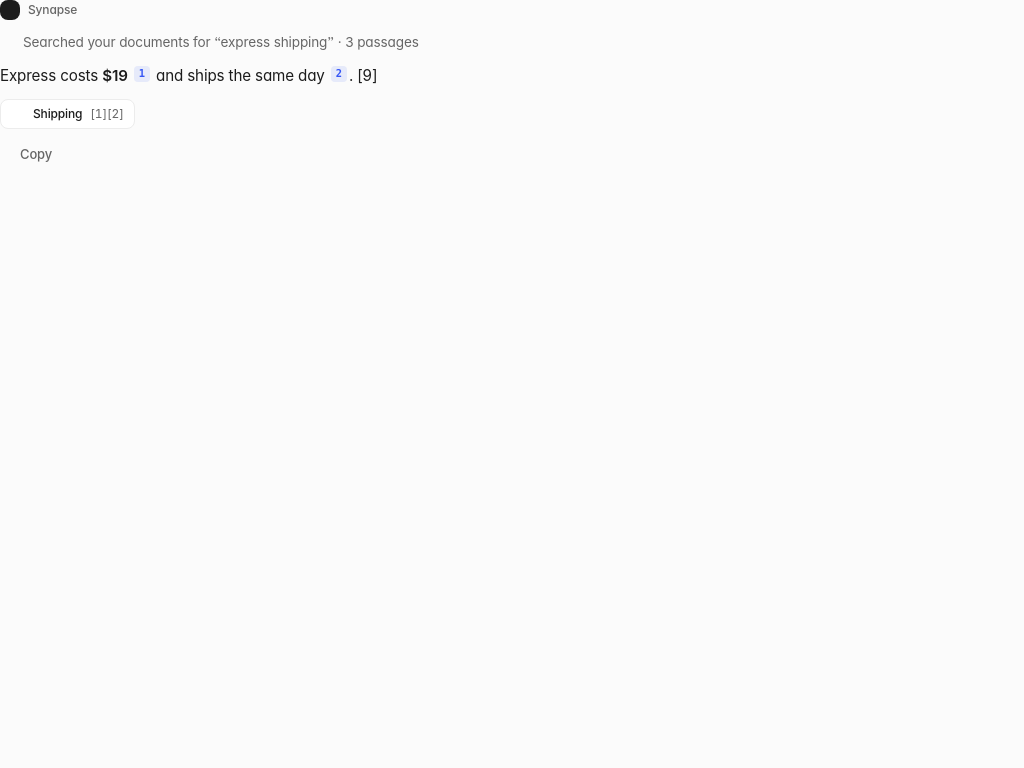
Test: MessageList › a cited reply: [n] opens the passage it cites, and its sources are listed once each
expect the text "[9]" is shown: met, box x1=349 y1=66 x2=377 y2=85
expect the list named "Sources" reads "Shipping [1][2]": met, box x1=0 y1=99 x2=135 y2=129
Click the button named "Source 1: Shipping". click: (142,74)
box: x1=134 y1=66 x2=150 y2=82
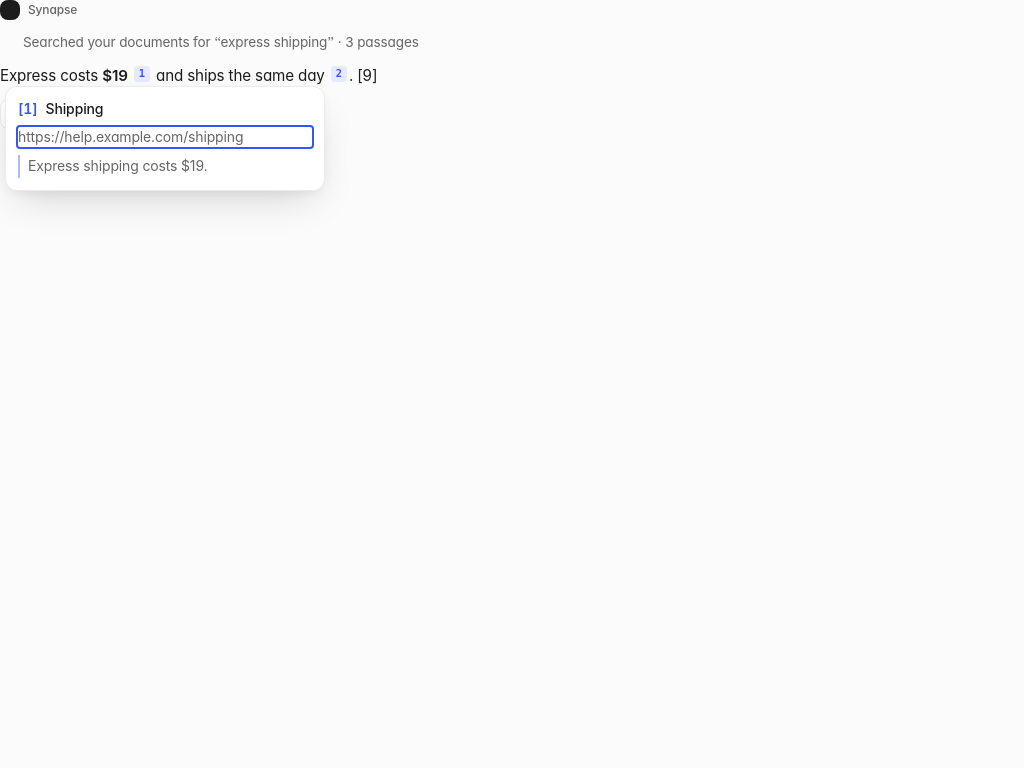
expect the text "Express shipping costs $19." is shown: met, box x1=18 y1=155 x2=312 y2=178
expect the link "https://help.example.com/shipping" is shown: met, box x1=18 y1=128 x2=243 y2=145
